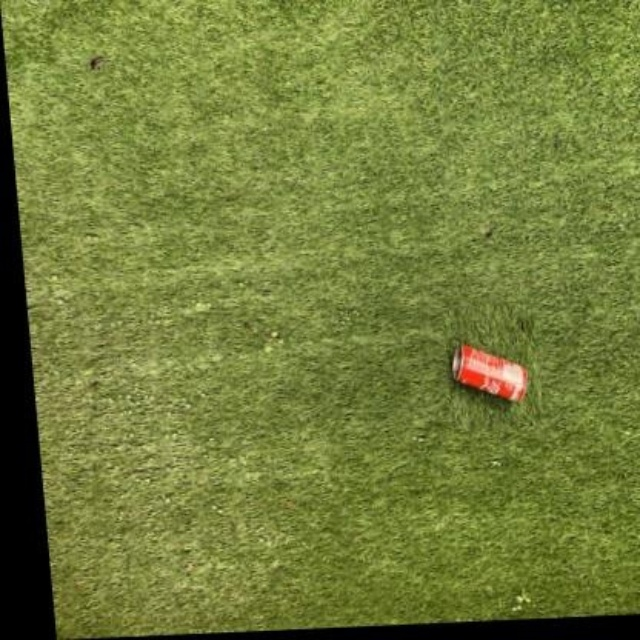trash: (452, 345, 526, 400)
